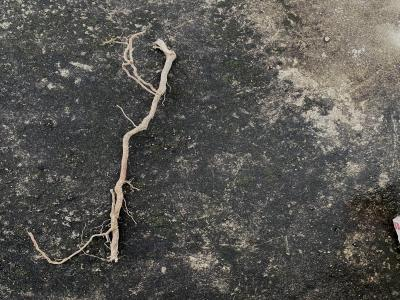Root: (29, 31, 176, 264)
